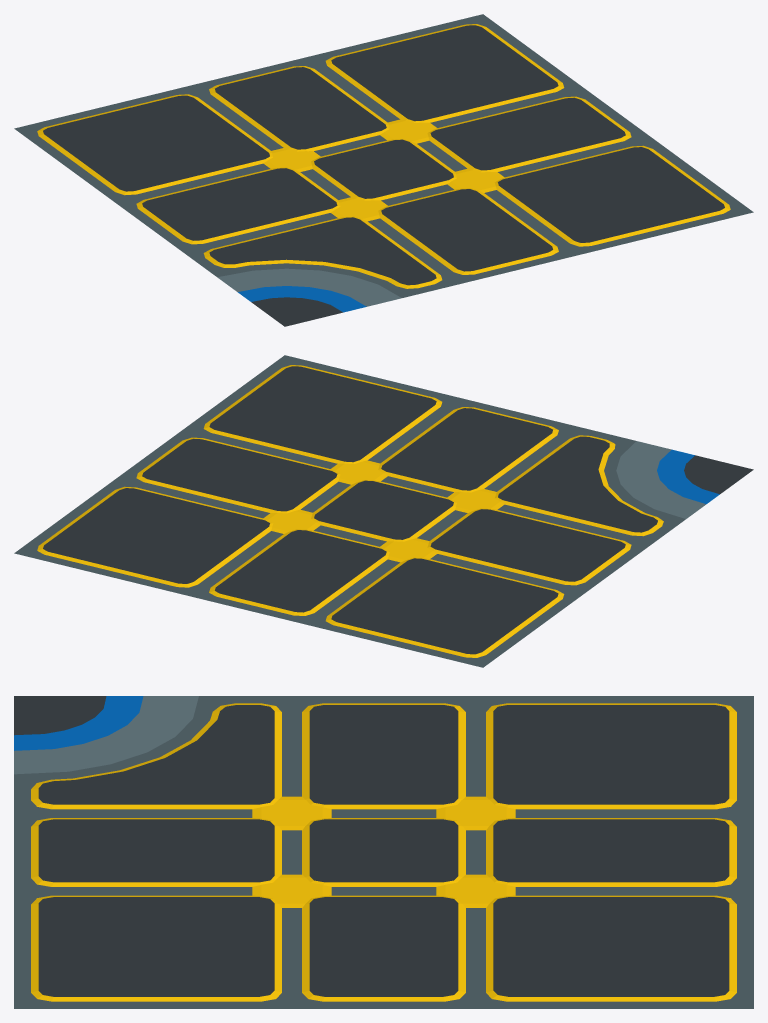
The model's file is Floor_type_C_022.fbx.
3 views of the same model, one above another, from view 1: azimuth 30°, elevation 25°; view 2: azimuth 150°, elevation 25°; view 3: azimuth 270°, elevation 25° (orthographic). The views are drawn at different scales.
Visible parts, largest first — view 1: Floor_type_C_022; view 2: Floor_type_C_022; view 3: Floor_type_C_022.
Part boxes in pixels (box(x1,y1,x2,y2)): Floor_type_C_022: box(14, 14, 753, 326); Floor_type_C_022: box(14, 355, 753, 667); Floor_type_C_022: box(14, 696, 753, 1008).
Size of the model in its own units: 400 by 400 by 1.34.
